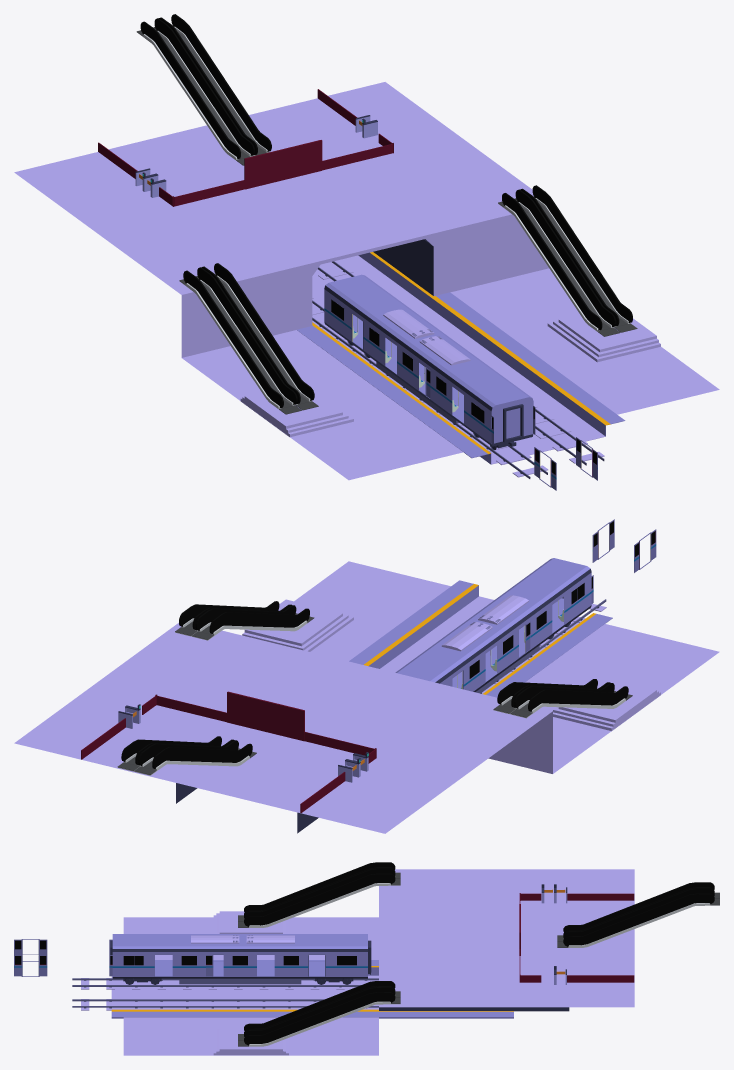
The model's file is MapLevel08.fbx.
The picture shows the model from 3 angles, top to bottom: view 1: azimuth 30°, elevation 25°; view 2: azimuth 150°, elevation 25°; view 3: azimuth 270°, elevation 25°; orthographic projection. The views are drawn at different scales.
Parts seen in each view (by area): view 1: Plane, Rail, MRTCar, Escalator.001, Escalator, Escalator.002, Floor, Cube.003, FenceGate.002, Rail.001, MRTCar.AC, MRTCar.Door (+2 smaller); view 2: Plane, MRTCar, Rail, Floor, Escalator.002, Escalator.001, Escalator, Cube.003, FenceGate.002, MRTCar.AC, MRTCar.Door, MRTCar.Interior (+1 smaller); view 3: Plane, MRTCar, Rail, Escalator.001, Escalator, Escalator.002, Floor, Rail.002, Cube.003, Rail.001, MRTCar.Door, MRTCar.Interior (+2 smaller).
Boxes of the visible parts, <box> form: Plane: <box>14,82,719,480</box>; Rail: <box>297,252,625,464</box>; MRTCar: <box>324,274,533,446</box>; Escalator.001: <box>498,185,637,336</box>; Escalator: <box>179,263,318,414</box>; Escalator.002: <box>136,14,271,165</box>; Floor: <box>240,314,660,437</box>; Cube.003: <box>98,89,393,206</box>; FenceGate.002: <box>244,140,322,189</box>; Rail.001: <box>312,297,548,478</box>; MRTCar.AC: <box>383,309,470,365</box>; MRTCar.Door: <box>351,313,597,490</box>; Plane: <box>14,561,719,833</box>; MRTCar: <box>395,558,591,692</box>; Rail: <box>349,580,612,697</box>; Floor: <box>242,599,660,731</box>; Escalator.002: <box>117,736,256,775</box>; Escalator.001: <box>175,601,314,640</box>; Escalator: <box>493,679,632,718</box>; Cube.003: <box>81,695,376,812</box>; FenceGate.002: <box>227,691,304,741</box>; MRTCar.AC: <box>441,595,528,651</box>; MRTCar.Door: <box>452,519,656,689</box>; MRTCar.Interior: <box>452,596,564,688</box>; Plane: <box>123,869,634,1055</box>; MRTCar: <box>110,934,371,984</box>; Rail: <box>111,960,513,1018</box>; Escalator.001: <box>238,981,400,1046</box>; Escalator: <box>238,862,400,927</box>; Escalator.002: <box>557,882,719,947</box>; Floor: <box>213,911,288,1055</box>; Rail.002: <box>72,999,378,1010</box>; Cube.003: <box>519,893,634,982</box>; Rail.001: <box>72,978,378,989</box>; MRTCar.Door: <box>14,939,325,976</box>; MRTCar.Interior: <box>154,954,324,976</box>.
Size of the model in its own units: 2562 by 954 by 5529.
3 materials, 1 textured.
